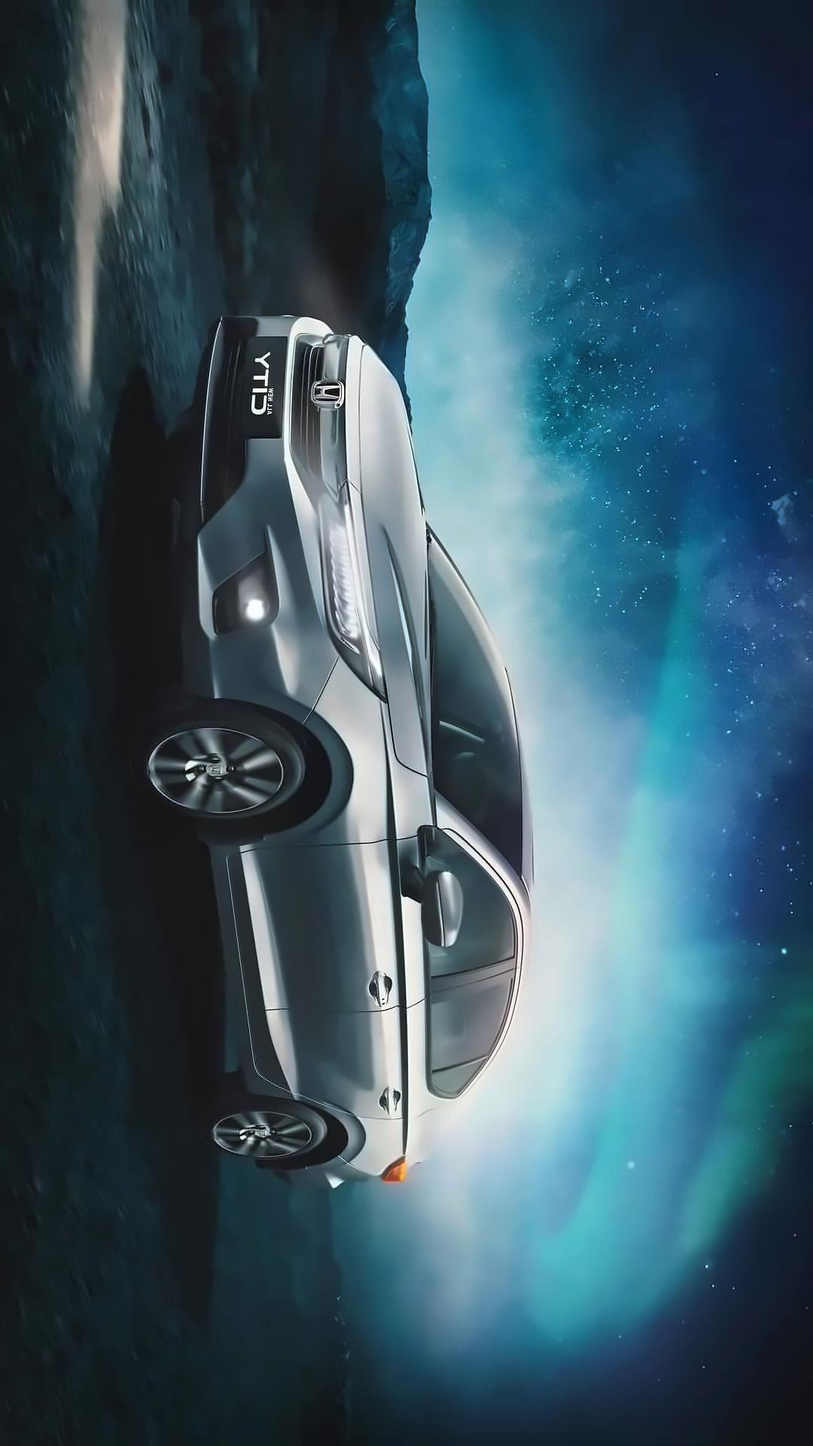Car hood: (346, 331, 440, 756)
Front bumper: (190, 305, 347, 725)
Headlight - -L-: (312, 495, 396, 711)
Passenger-s door - -F-L-: (222, 832, 543, 1022)
Passenger-s door - -R-L-: (226, 964, 564, 1123)
Rear bumper: (260, 1156, 381, 1201)
Rear light - -L-: (374, 1153, 416, 1192)
Side bumper - -L-: (196, 840, 302, 1107)
Side mirror - -L-: (412, 866, 469, 956)
